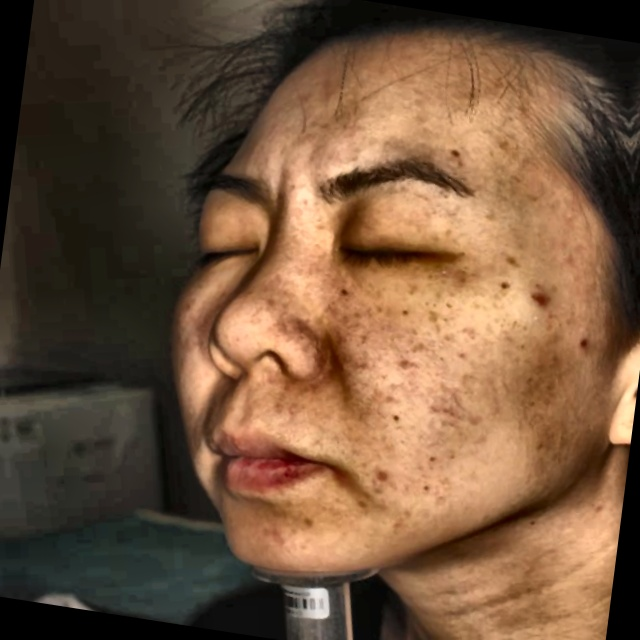comedone: (522, 284, 561, 321)
